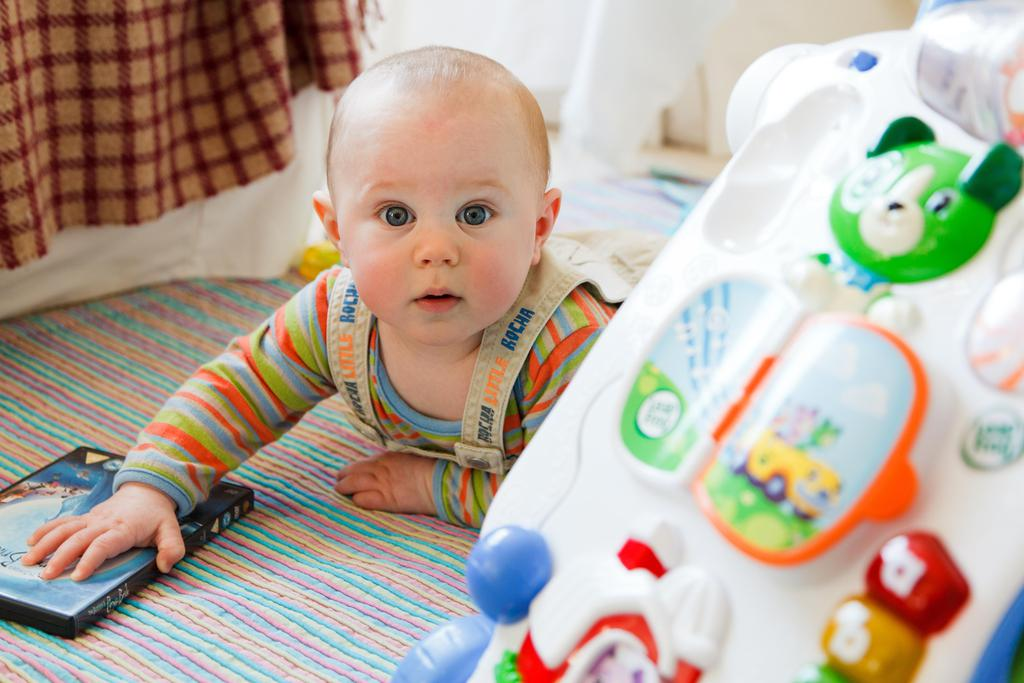child: (30, 47, 741, 597)
